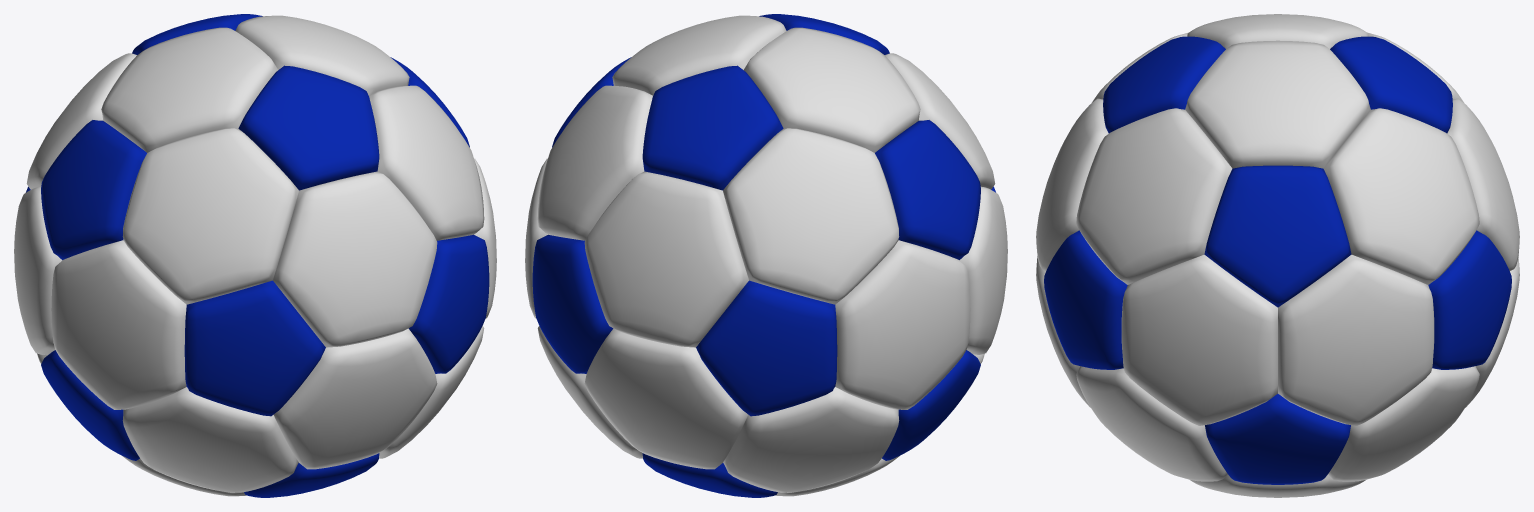
File: Ball_MESH.FBX
The picture shows the model from 3 angles, left to right: view 1: azimuth 30°, elevation 25°; view 2: azimuth 150°, elevation 25°; view 3: azimuth 270°, elevation 25°; orthographic projection.
Parts seen in each view (by area): view 1: Ball; view 2: Ball; view 3: Ball.
Boxes of the visible parts, x1=… form: Ball: x1=14, y1=14, x2=496, y2=497; Ball: x1=525, y1=14, x2=1007, y2=497; Ball: x1=1036, y1=14, x2=1519, y2=497.
Bounding box in the file's own units: 32.01 × 32.01 × 32.01.
